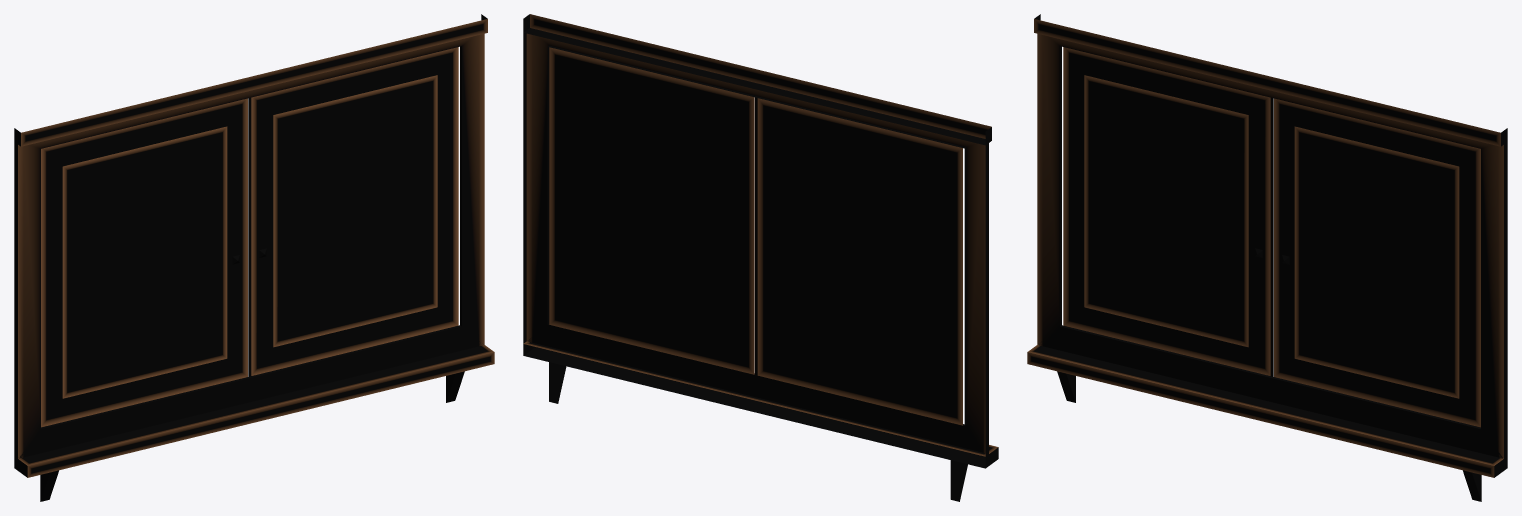
Rendered from serving_hatch.glb.
3 views of the same model, side by side, from view 1: azimuth 30°, elevation 25°; view 2: azimuth 150°, elevation 25°; view 3: azimuth 330°, elevation 25° (orthographic).
Parts seen in each view (by area): view 1: teak, frame, dark; view 2: teak, frame, dark; view 3: teak, frame, dark.
Boxes of the visible parts, <box> form: teak: <box>41,47,458,427</box>; frame: <box>14,14,494,501</box>; dark: <box>248,97,251,376</box>; teak: <box>549,47,962,425</box>; frame: <box>523,14,998,501</box>; dark: <box>755,97,757,375</box>; teak: <box>1063,47,1480,427</box>; frame: <box>1027,14,1507,501</box>; dark: <box>1270,97,1273,376</box>.
Size of the model in its own units: 1.22 by 0.95 by 0.06.
